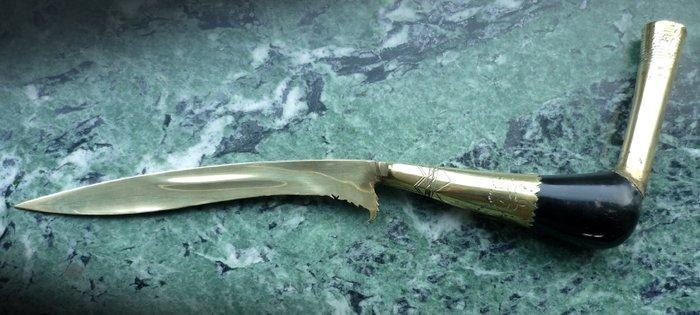facao: (17, 20, 683, 248)
